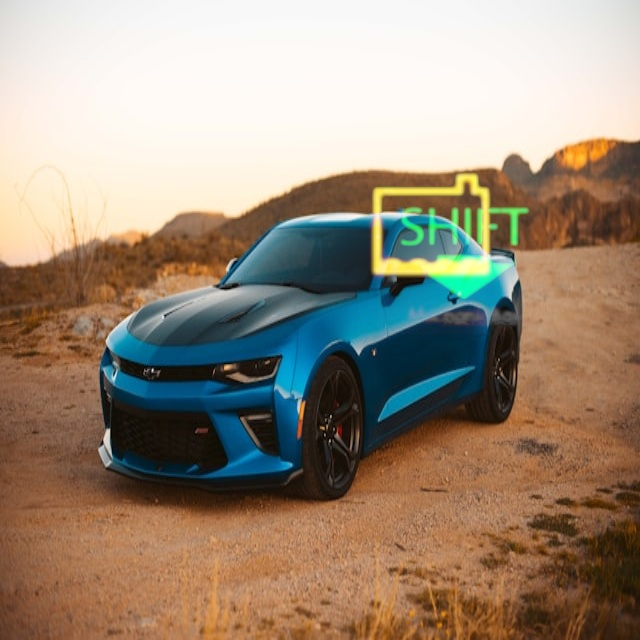symbol: (324, 118, 539, 333), (377, 164, 547, 334)
